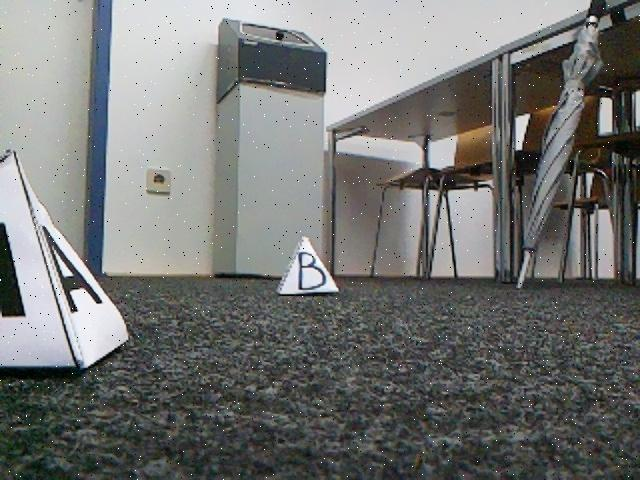A: (0, 149, 131, 374)
B: (275, 236, 335, 296)
